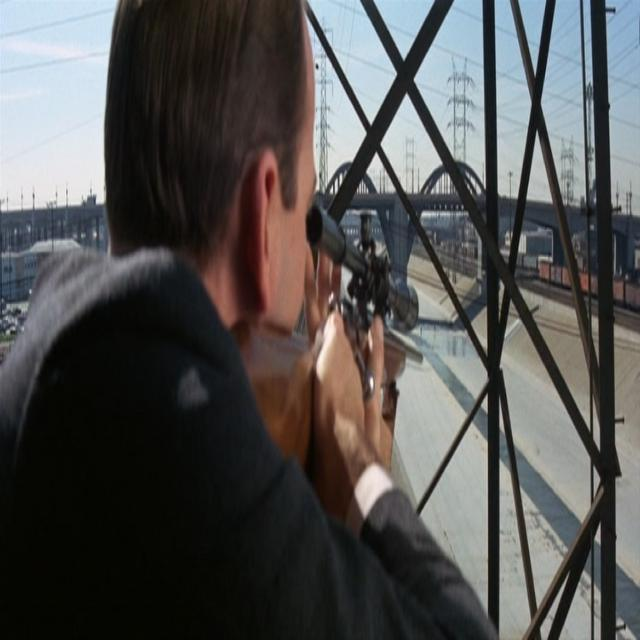gun-knife-thesis - v11 Yolov5 augmented: (301, 186, 438, 456)
